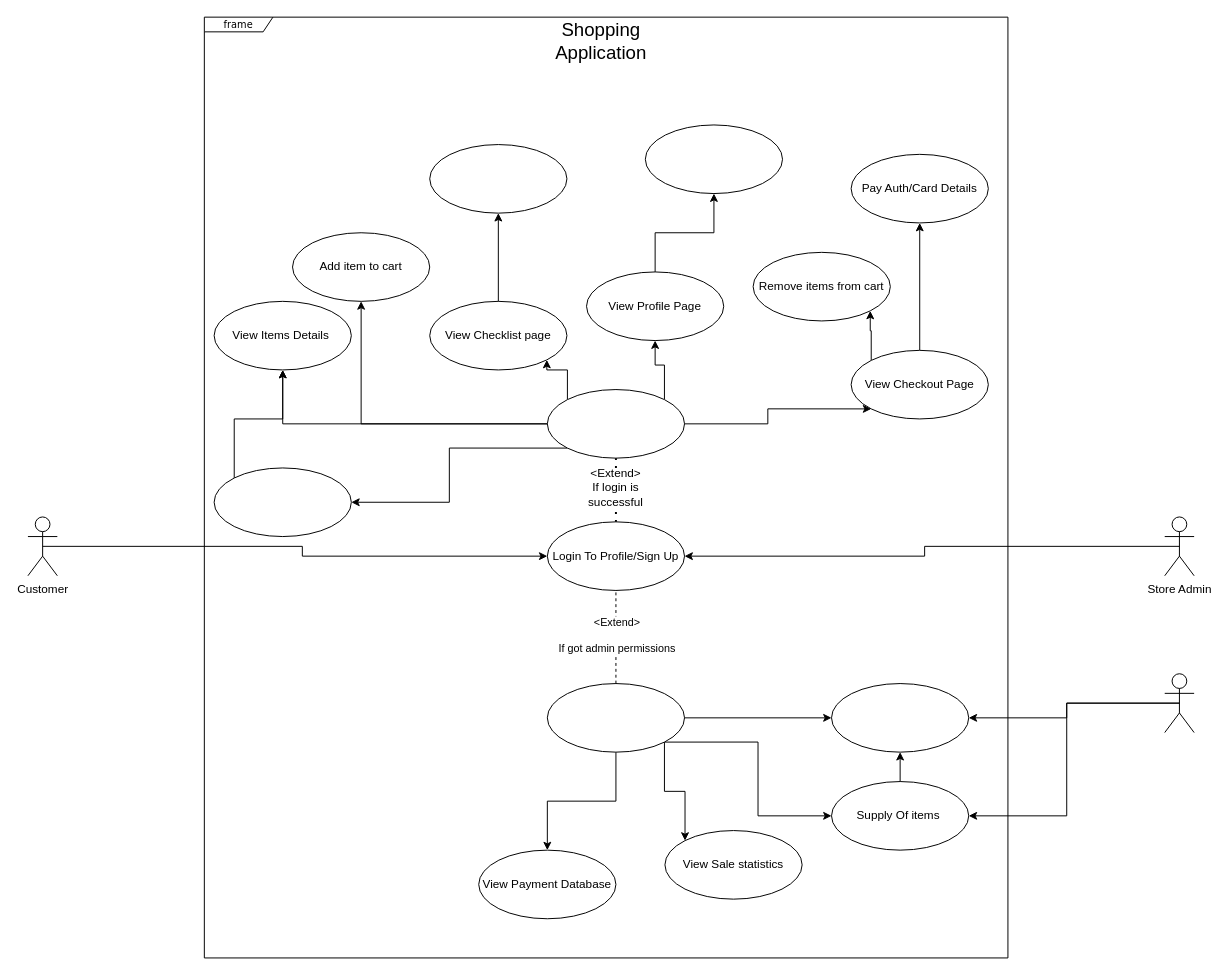
Image size: 1228x975. Some labels were removed from this diagram. Here are the shapes that lost their labels. From the top down, the centre of each, then its label:
At point (498, 178): "Recommend items page based off checlist".
At point (713, 159): "View History of purchases and statistics of profile".
At point (615, 423): "View Main Page (items are on this plane)".
At point (282, 502): "Recommended items from history".
At point (615, 717): "View Admin side of application".
At point (900, 717): "View Logistics".
At point (1179, 703): "Supplier".
